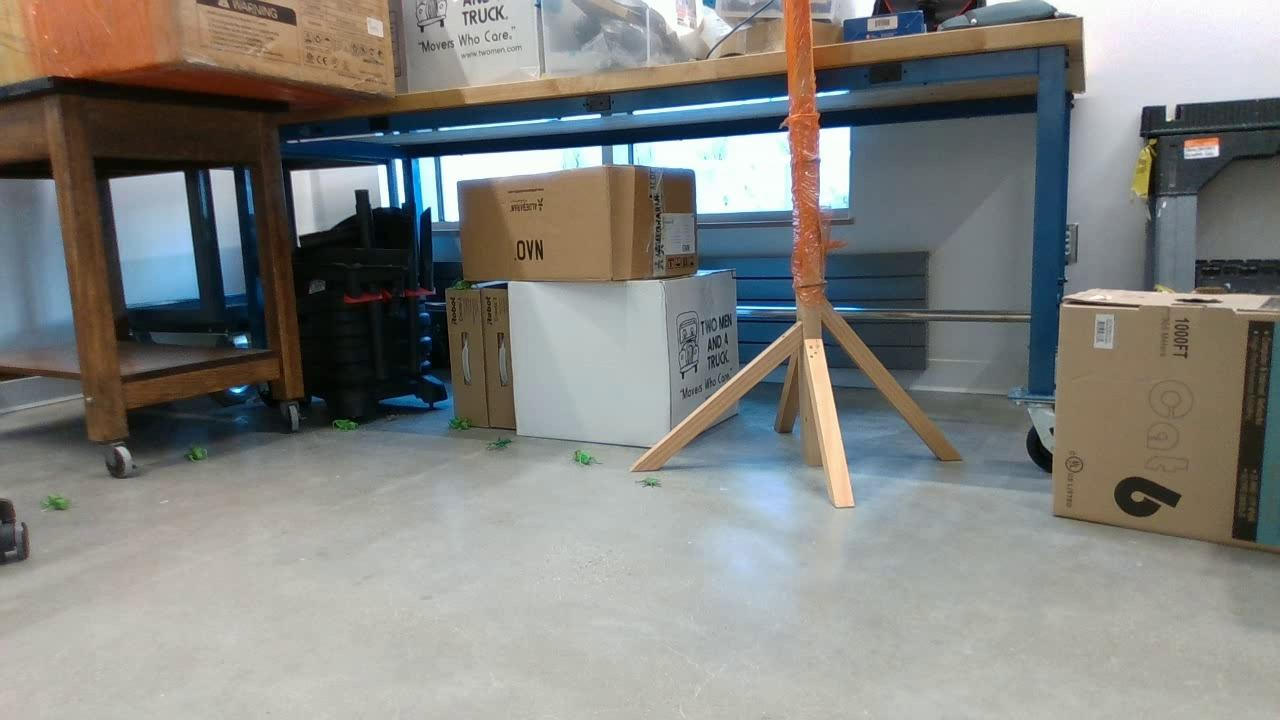grasshopper: (571, 446, 601, 473), (44, 492, 76, 511), (185, 443, 215, 461), (442, 418, 469, 433), (329, 417, 362, 429)
